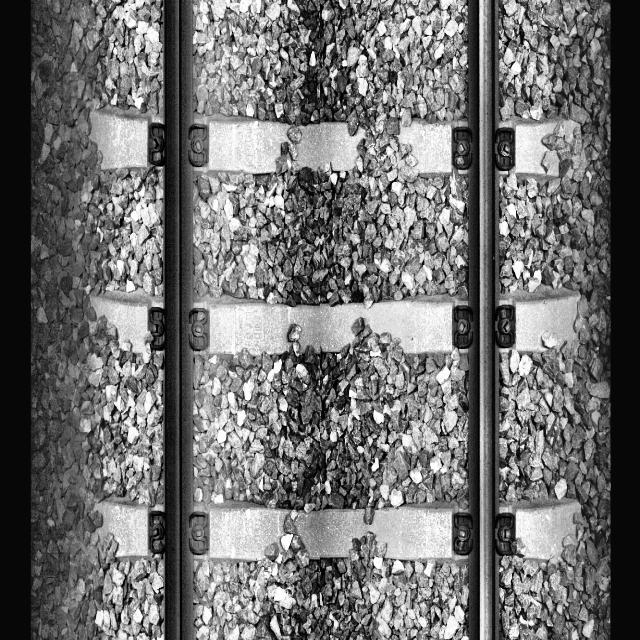Clips: (451, 512, 473, 557), (494, 127, 516, 171), (452, 304, 474, 348), (189, 511, 210, 555), (189, 308, 210, 352), (496, 304, 516, 349), (494, 512, 515, 554), (188, 123, 208, 167), (452, 126, 472, 170), (147, 121, 165, 166), (148, 307, 166, 350), (149, 510, 165, 553)
Sleepers: (91, 110, 580, 178), (88, 294, 578, 357), (92, 498, 581, 561)
